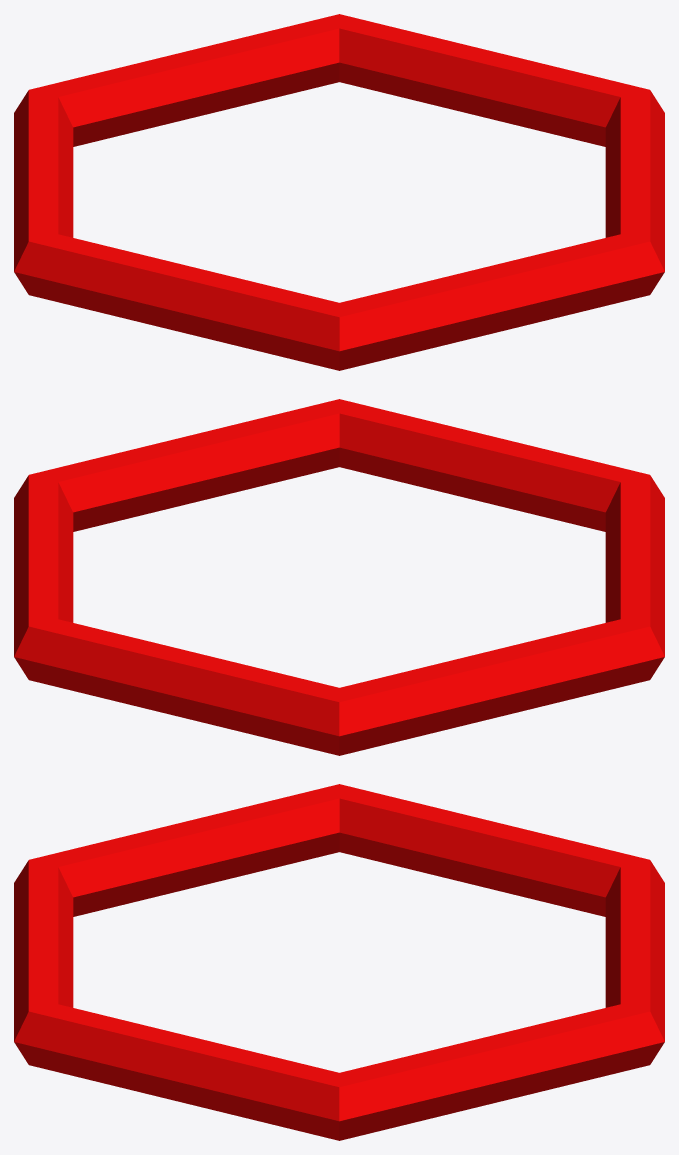
Rendered from LandingTarget.fbx.
3 renders of one model, top to bottom at view 1: azimuth 30°, elevation 25°; view 2: azimuth 150°, elevation 25°; view 3: azimuth 270°, elevation 25°, orthographic.
Parts seen in each view (by area): view 1: Torus; view 2: Torus; view 3: Torus.
Part boxes in pixels (x1,y1,x2,y2): Torus: (14,14,664,370); Torus: (14,399,664,755); Torus: (14,784,664,1140).
Size of the model in its own units: 220 by 17.32 by 191.
